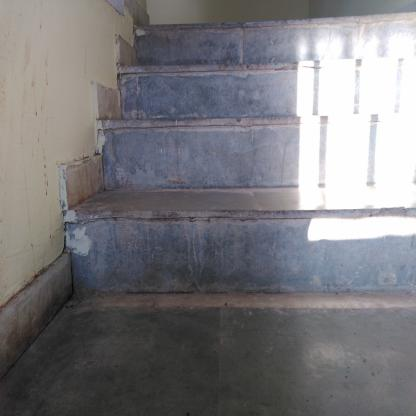stairs: (135, 13, 416, 316)
